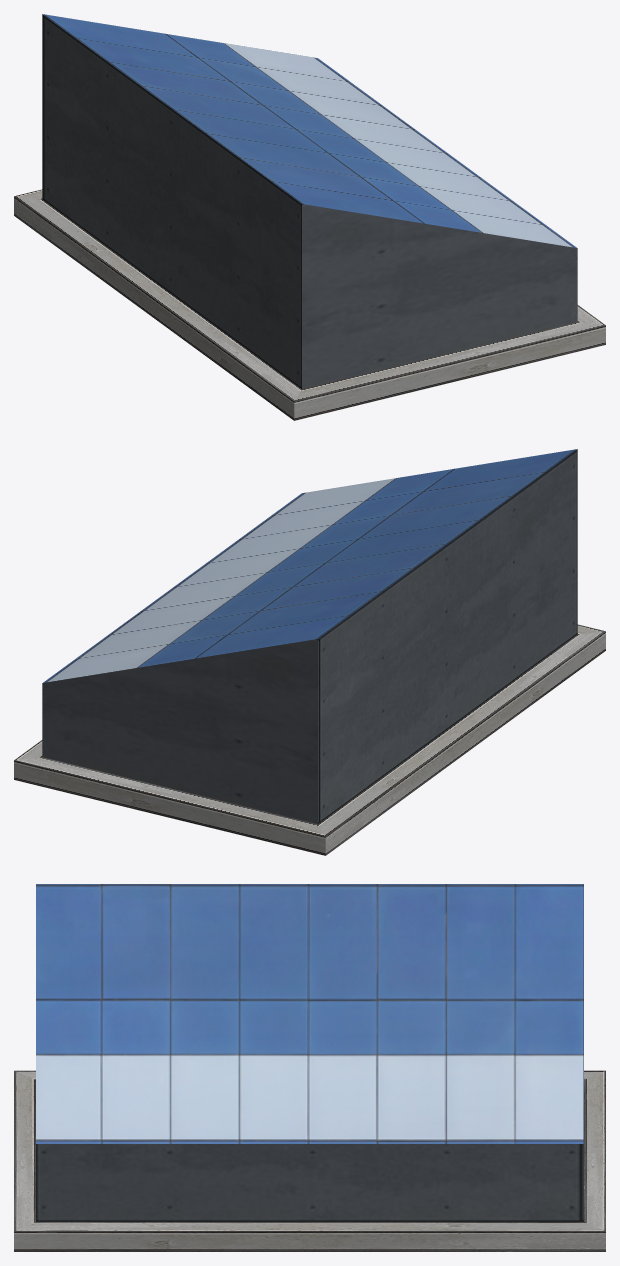
The model's file is roof addon4.FBX.
The picture shows the model from 3 angles, top to bottom: view 1: azimuth 30°, elevation 25°; view 2: azimuth 150°, elevation 25°; view 3: azimuth 270°, elevation 25°; orthographic projection. The views are drawn at different scales.
Parts seen in each view (by area): view 1: roof addon4; view 2: roof addon4; view 3: roof addon4.
Part boxes in pixels (x1=…): roof addon4: x1=14, y1=14, x2=605, y2=420; roof addon4: x1=14, y1=449, x2=605, y2=855; roof addon4: x1=14, y1=884, x2=605, y2=1251.
Size of the model in its own units: 9.02 by 5.66 by 14.04.
